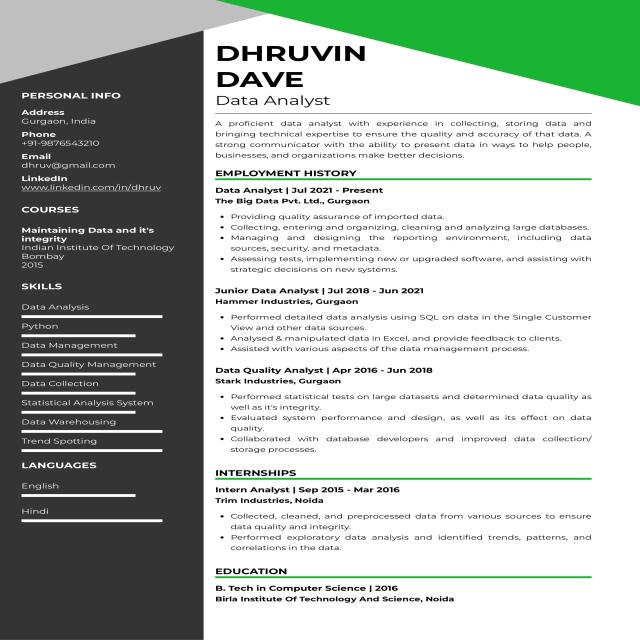contact: (12, 102, 189, 205)
education: (213, 564, 597, 614), (14, 207, 185, 271)
experience: (210, 170, 630, 458), (208, 467, 614, 559)
header: (204, 35, 393, 112)
languages: (14, 462, 180, 534)
skills: (14, 279, 193, 458)
summary: (209, 115, 607, 172)
